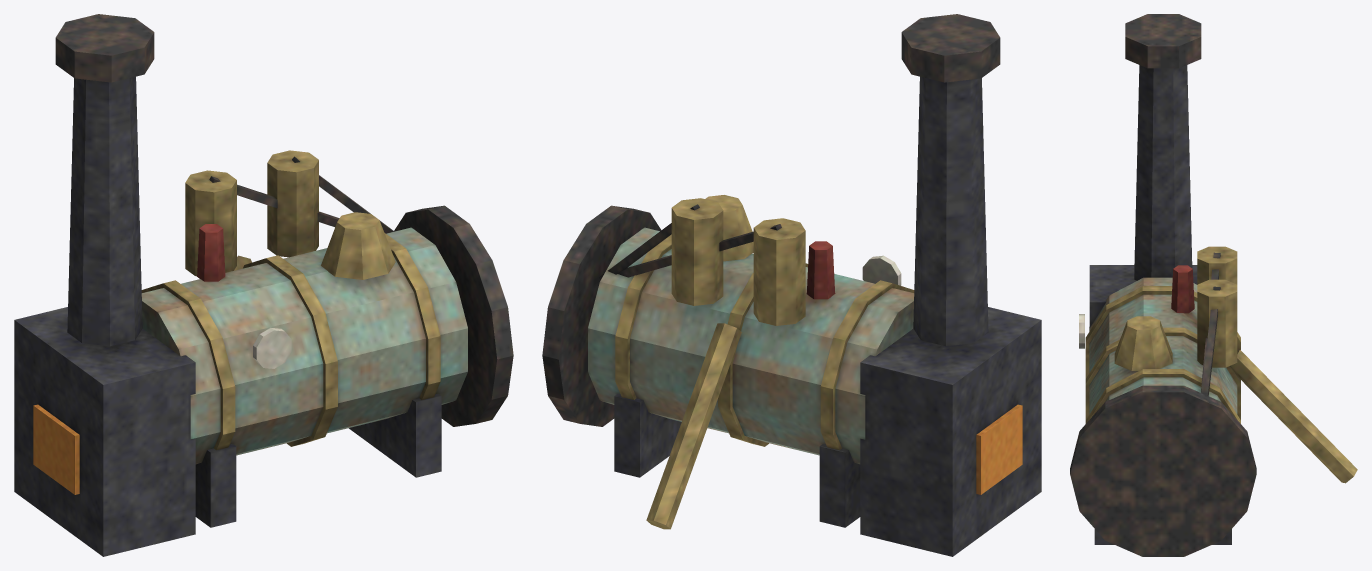
The model's file is SM_TurretTower_Engine.fbx.
3 renders of one model, left to right at view 1: azimuth 30°, elevation 25°; view 2: azimuth 150°, elevation 25°; view 3: azimuth 270°, elevation 25°, orthographic. The views are drawn at different scales.
Parts seen in each view (by area): view 1: SM_TurretTower_Engine; view 2: SM_TurretTower_Engine; view 3: SM_TurretTower_Engine.
Boxes of the visible parts, box(x1,y1,x2,y2) form: SM_TurretTower_Engine: box(14, 14, 513, 556); SM_TurretTower_Engine: box(542, 14, 1041, 556); SM_TurretTower_Engine: box(1070, 14, 1357, 556).
Size of what is drawn, in the model's own units: 393 by 445 by 293.
2 materials, 2 textured.
